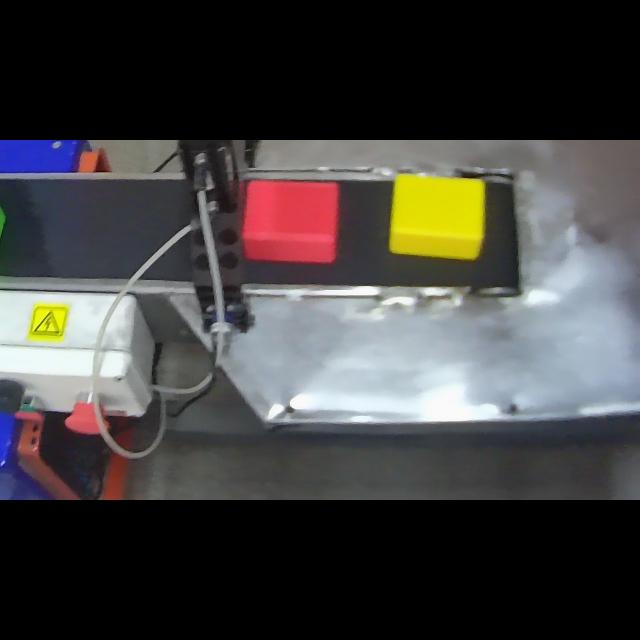greenBox: (0, 182, 6, 280)
redBox: (242, 171, 344, 275)
yellowBox: (384, 166, 490, 260)
